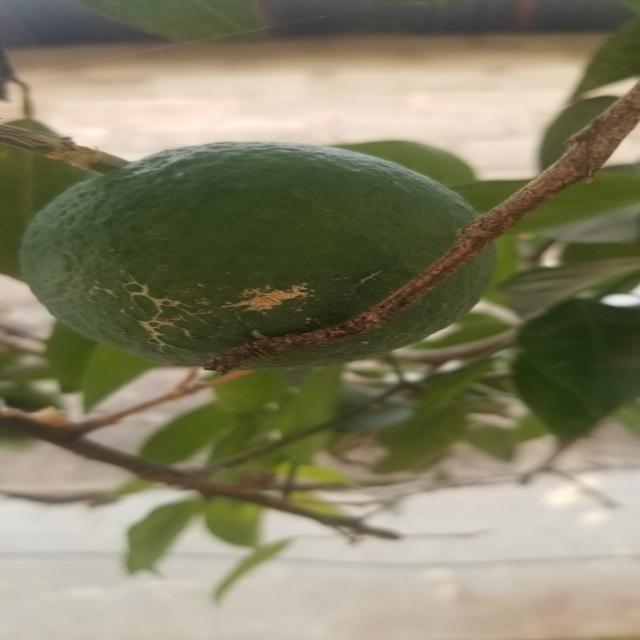Unripe: (3, 135, 506, 390)
